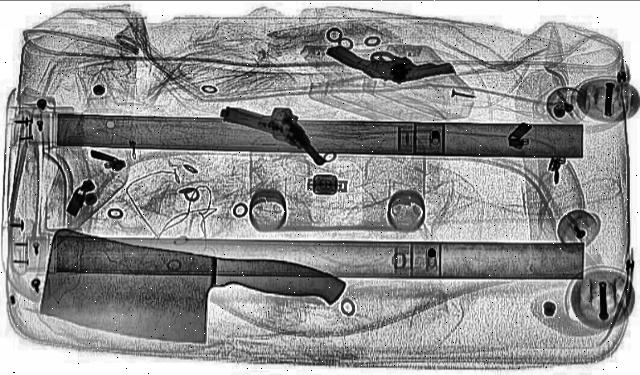Gun: (212, 94, 336, 178), (322, 29, 456, 93)
Knife: (17, 229, 355, 359)
